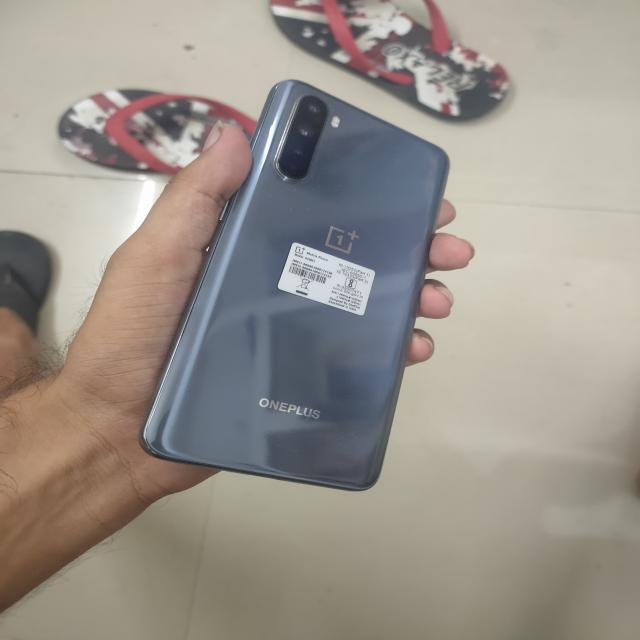Phone: (140, 77, 453, 495)
